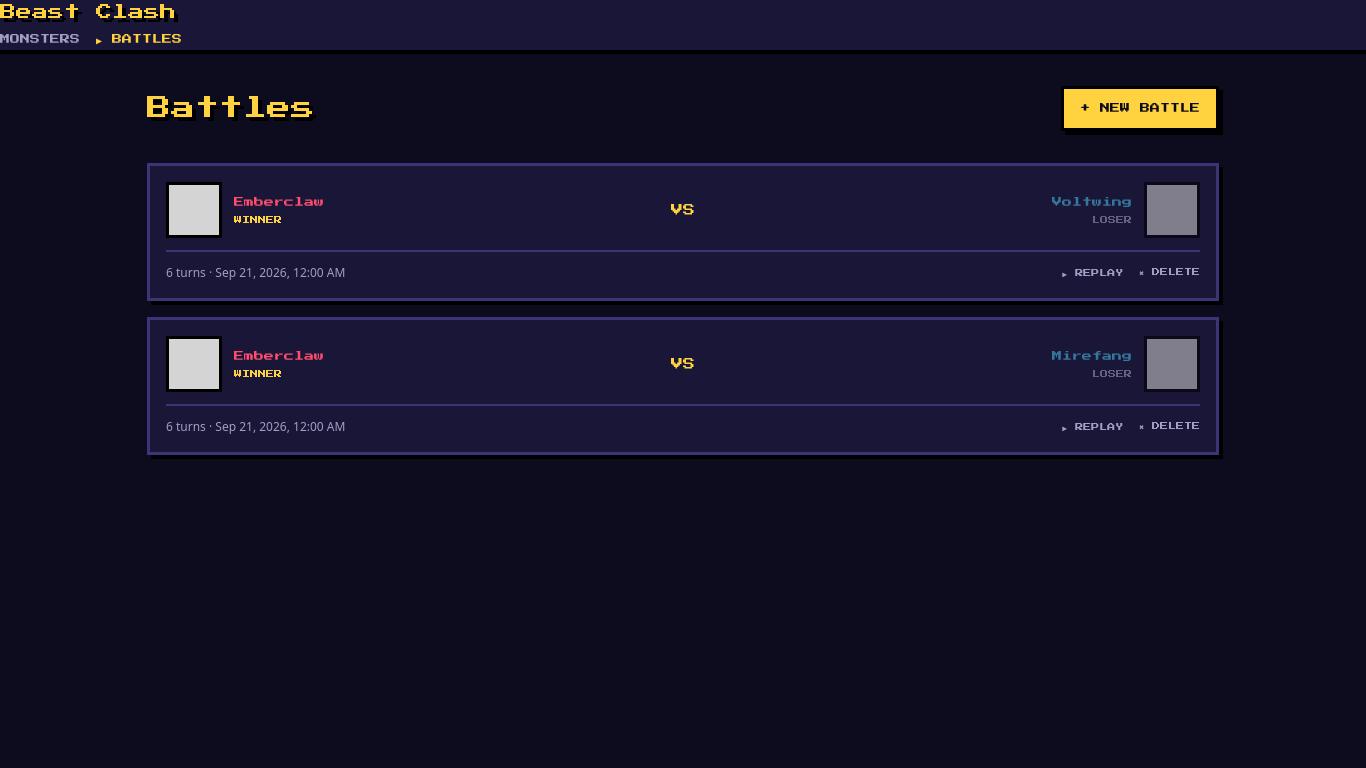
Test: BattleList: delete › closes without deleting when cancelled
Click the button "✖ Delete" below "Mirefang": (1170, 427) [1139, 421, 1200, 433]
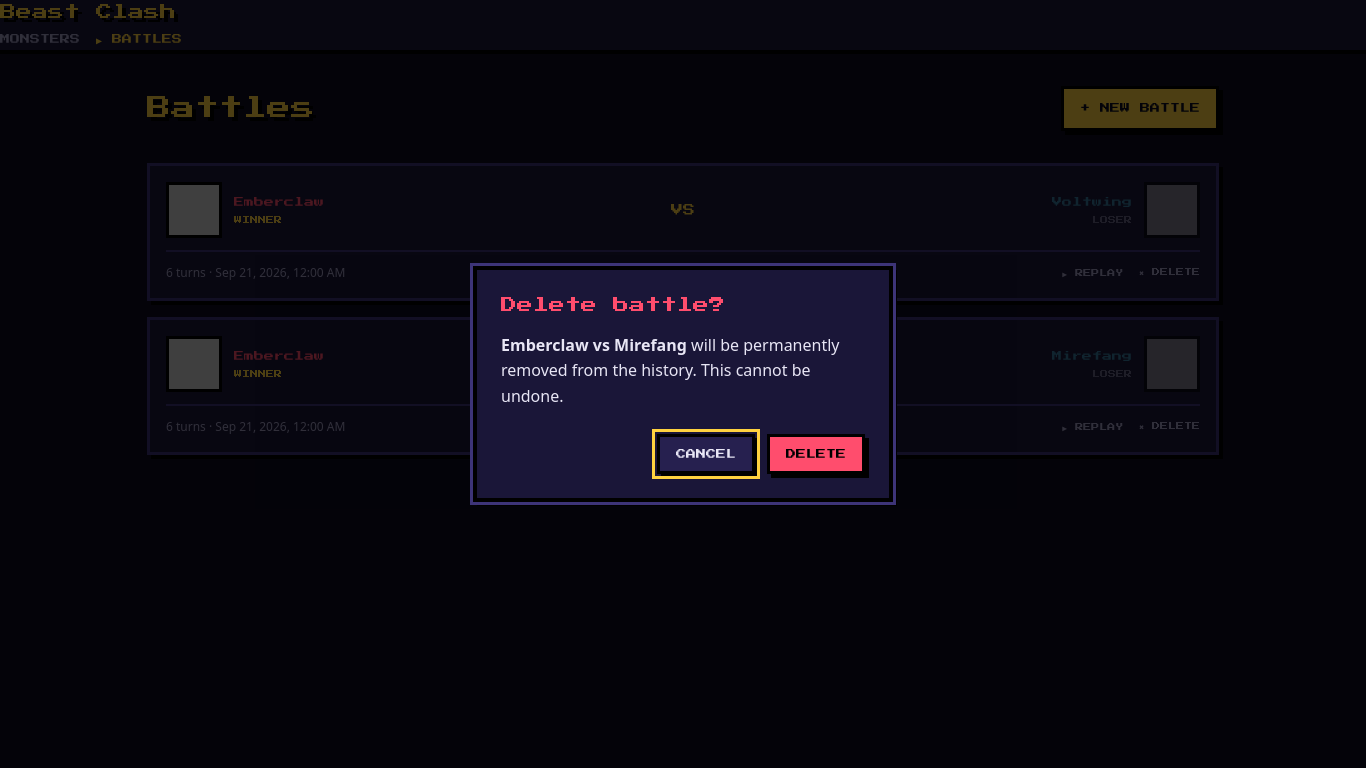
Click the button "Cancel": (706, 454) [657, 434, 755, 474]
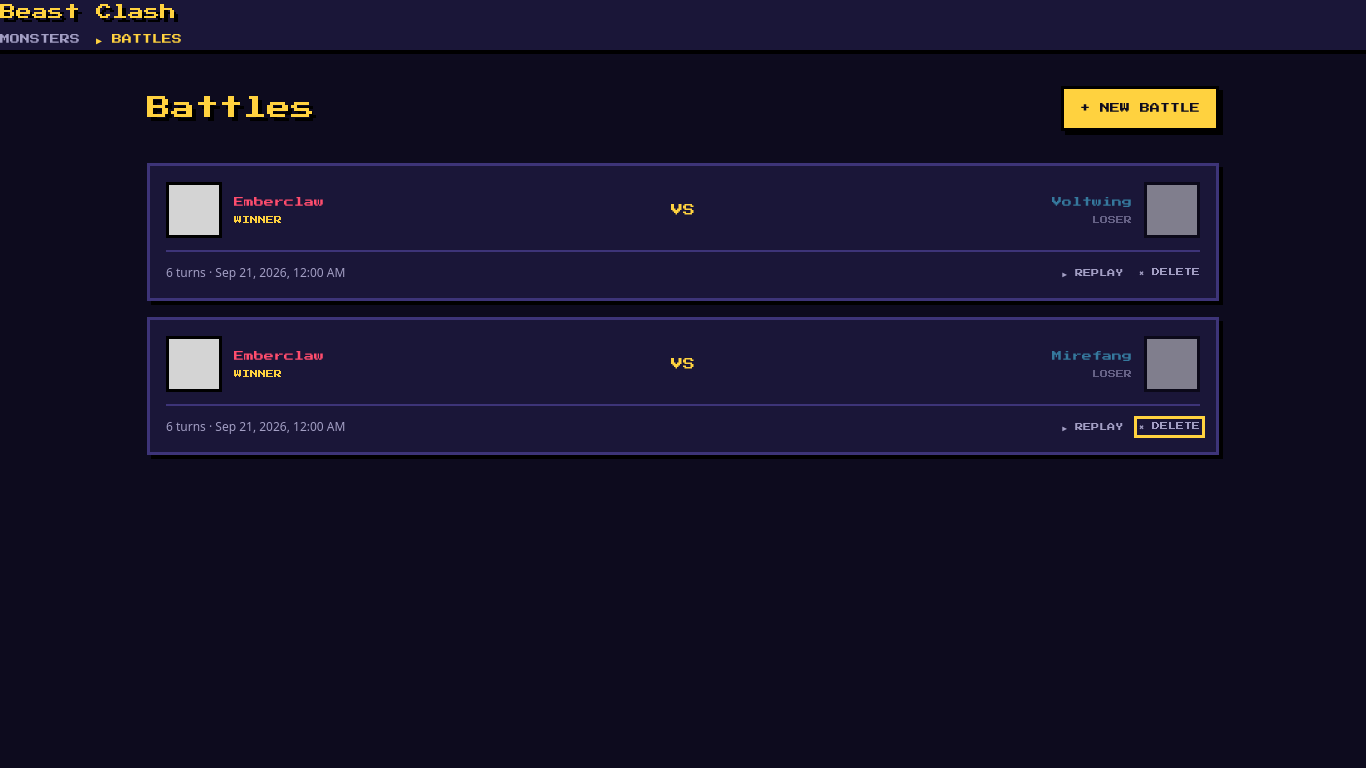
Check: the dialog is gone
